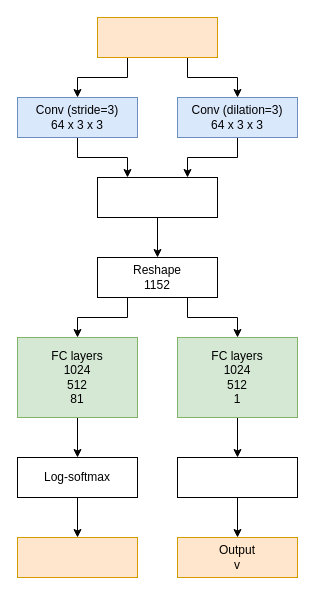
Image size: 315x595. Some labels were removed from this diagram. Each missing label, with the centre of its shape:
Concatenate 128 x 3 x 3: the point at 157,197
Input 2 x 9 x 9: the point at 157,37
Output p: the point at 77,557
Tanh: the point at 237,477
